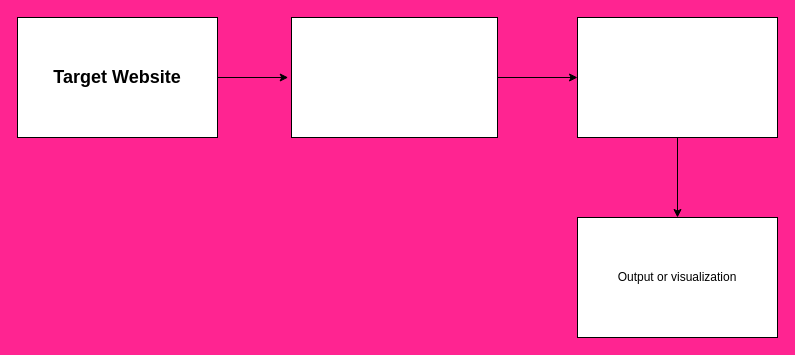
This 795x355 diagram has some shape labels left out. Here are the shapes that lost their labels. From the top down, the box of each, then its label:
(290, 16, 498, 138): Web Scraping Tool
(576, 16, 778, 138): Data Storage
